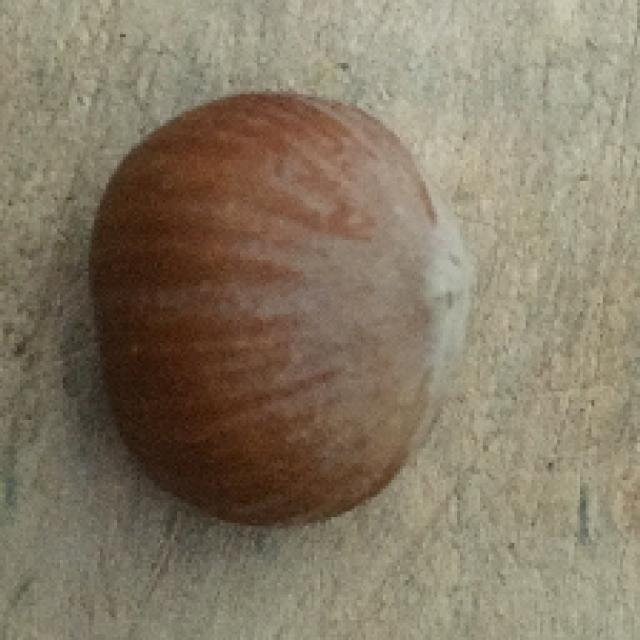qualityHazelnut: (66, 90, 461, 526)
